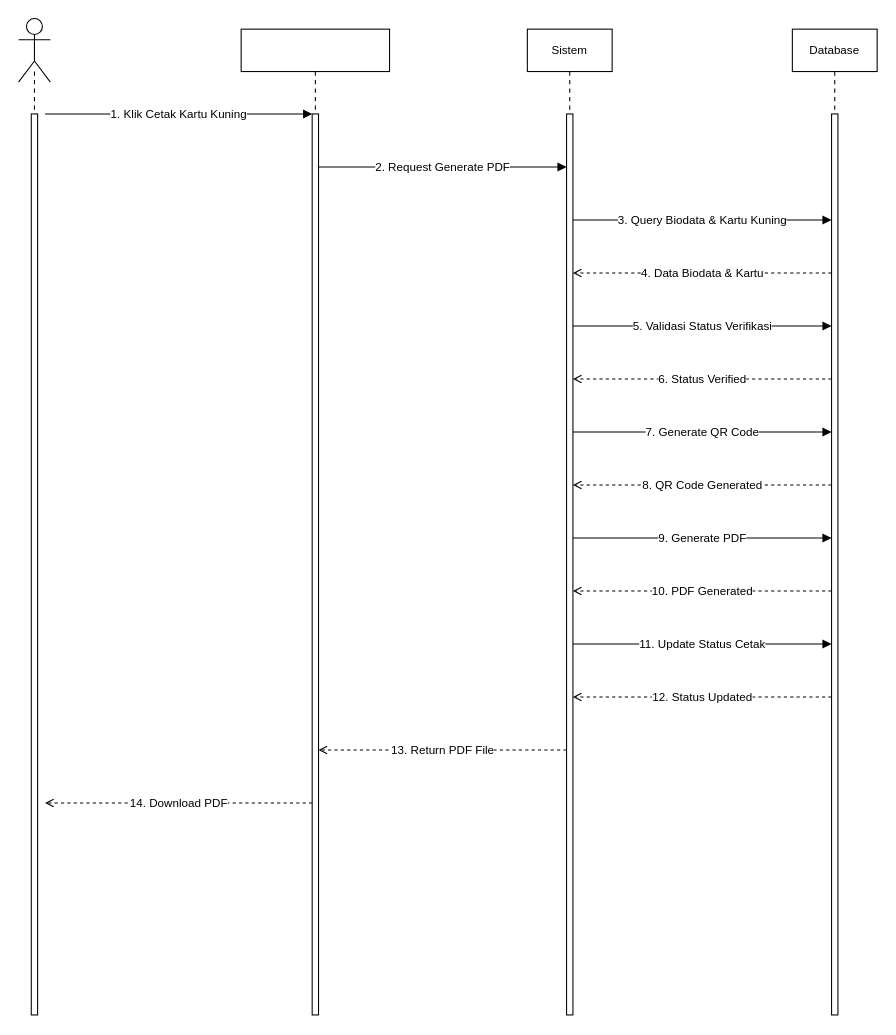
The diagram is 896 pixels wide and 1035 high, and some of its shapes have lost their labels. The shapes that lost their labels are listed below. From the top down, each one's box as (x1, y1, x2, y2) in pixels, then its label:
(17, 17, 50, 82): User
(240, 28, 390, 72): Halaman Kartu Kuning
